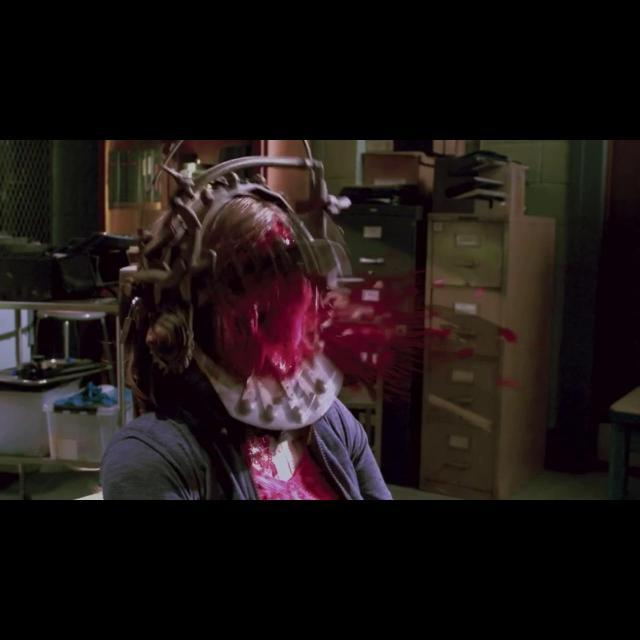blood: (214, 220, 422, 384), (243, 429, 278, 478)
